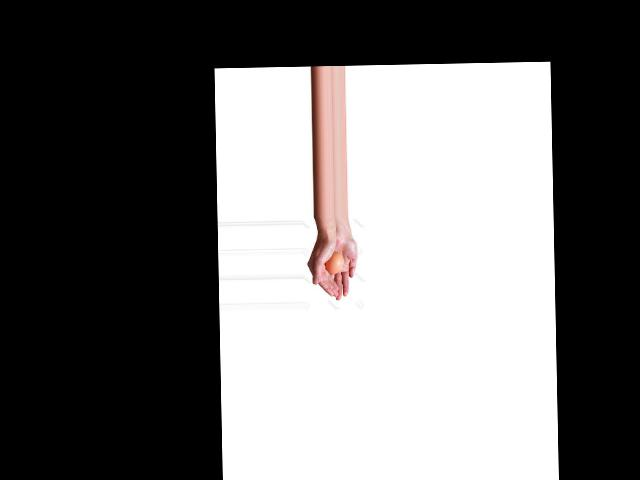egg: (325, 253, 342, 274)
